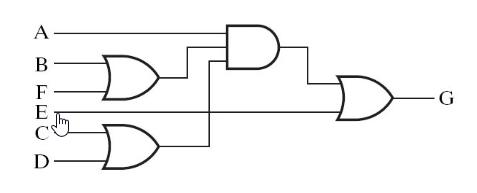and: (222, 21, 285, 73)
or: (98, 121, 164, 174), (333, 72, 398, 125), (98, 52, 164, 104)
